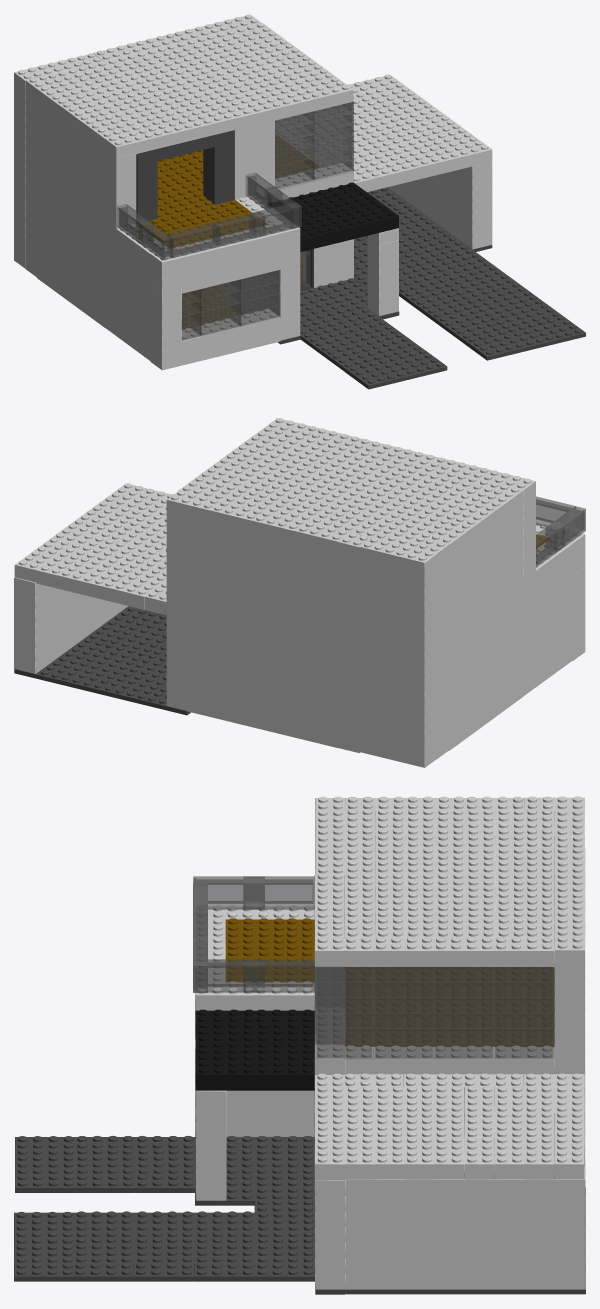
Rendered from modern_house.glb.
3 views of the same model, one above another, from view 1: azimuth 30°, elevation 25°; view 2: azimuth 150°, elevation 25°; view 3: azimuth 270°, elevation 25° (orthographic). The views are drawn at different scales.
Visible parts, largest first — view 1: __MH_EXPORT; view 2: __MH_EXPORT; view 3: __MH_EXPORT.
Part boxes in pixels (left/top/right/bottom): __MH_EXPORT: left=14, top=14, right=585, bottom=389; __MH_EXPORT: left=14, top=418, right=585, bottom=767; __MH_EXPORT: left=14, top=796, right=585, bottom=1294.
Bounding box in the file's own units: 13.91 × 6.9 × 13.87.
